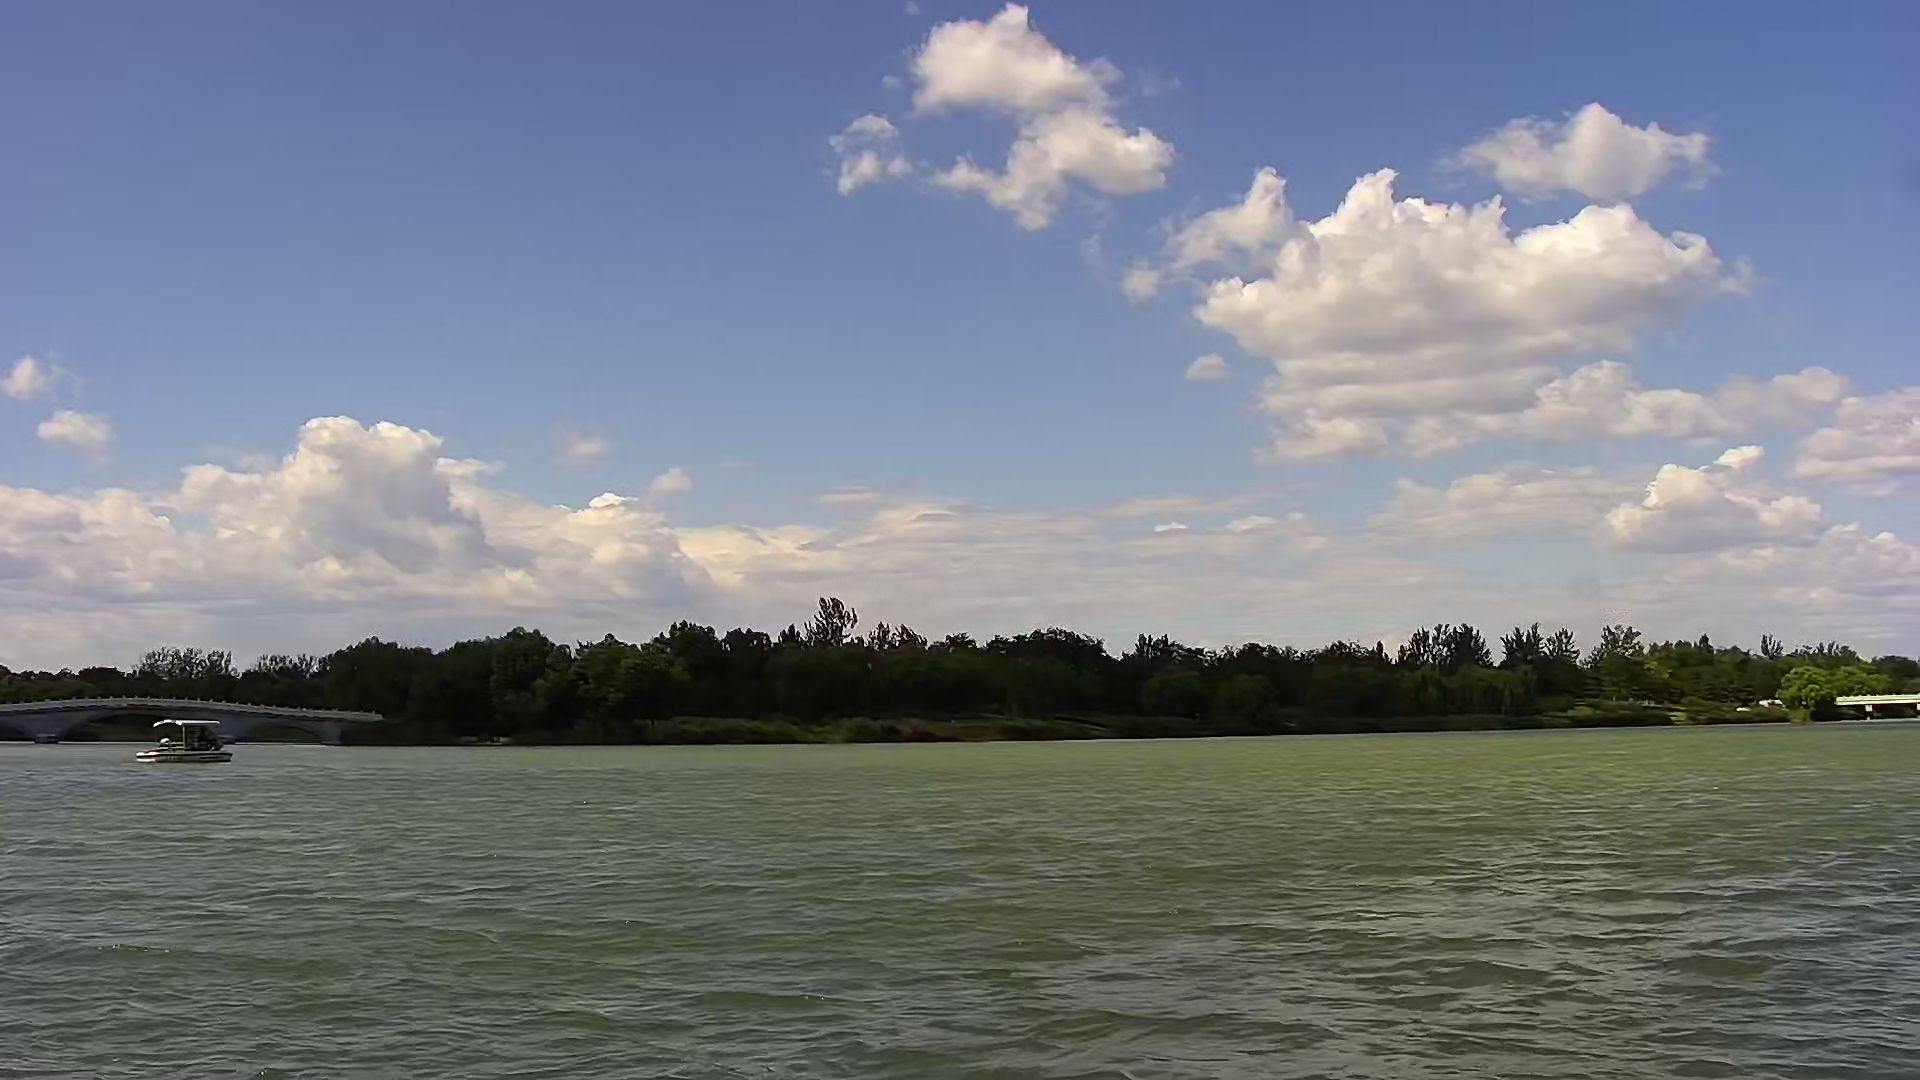boat: (117, 720, 235, 764)
bridge: (3, 684, 386, 752)
